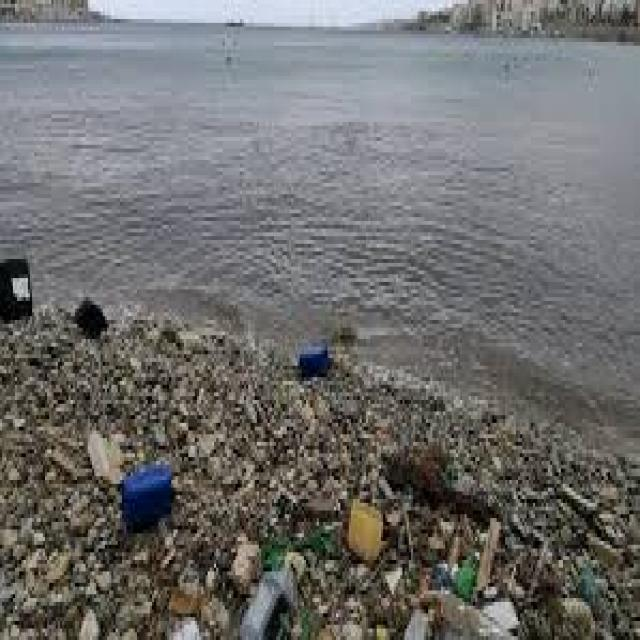heap: (164, 382, 500, 614)
